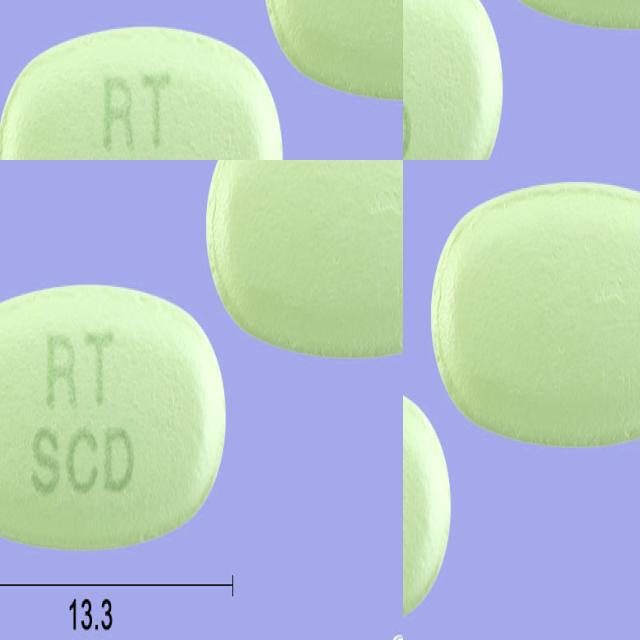Ilsung Clarithromycin - 500mg: (403, 0, 504, 160)
Revloxin Tab: (430, 179, 640, 449)
Shuclari Tab-500mg: (0, 298, 232, 552), (210, 160, 403, 337)
